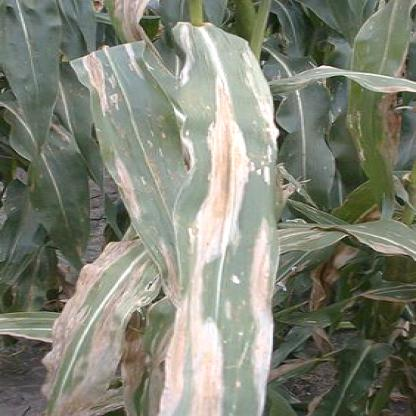corn leaf blight: (171, 23, 289, 415), (74, 39, 217, 305), (47, 235, 171, 415)
